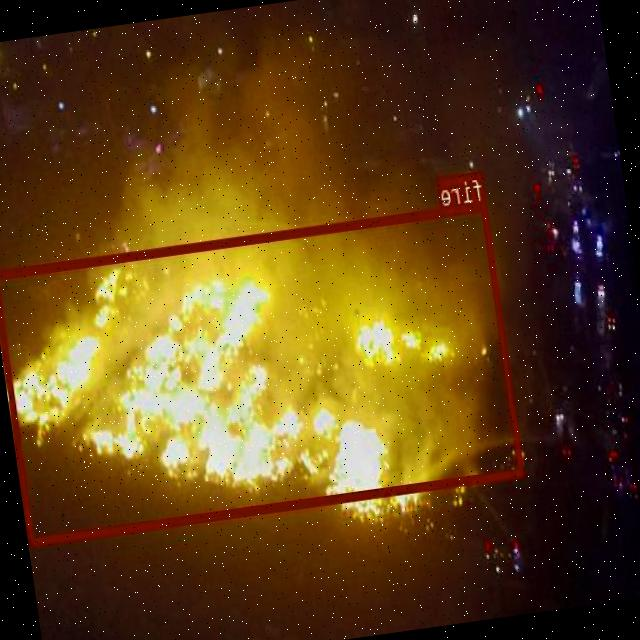fire: (0, 201, 524, 543)
